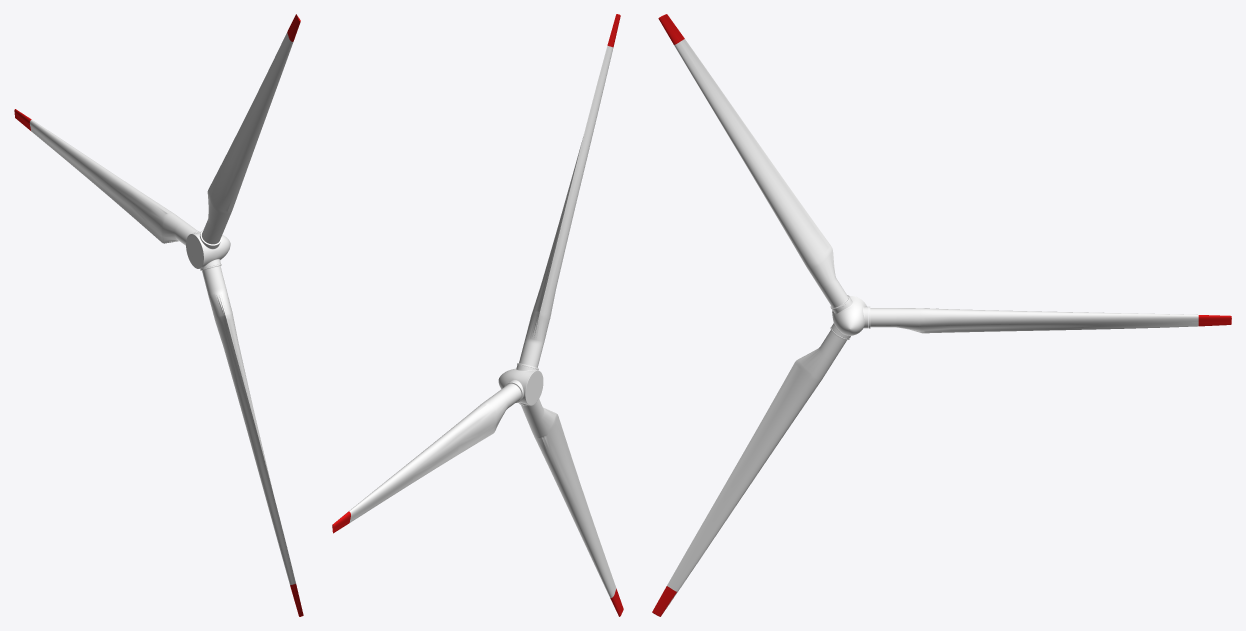
The model's file is FengLun.glb.
3 views of the same model, side by side, from view 1: azimuth 30°, elevation 25°; view 2: azimuth 150°, elevation 25°; view 3: azimuth 270°, elevation 25° (orthographic).
Parts seen in each view (by area): view 1: 叶片.1, cgaxis_models_119_11_02_03.4, cgaxis_models_119_11_02_01.3, cgaxis_models_119_11_03_01.2; view 2: cgaxis_models_119_11_02_01.3, 叶片.1, cgaxis_models_119_11_02_03.4, cgaxis_models_119_11_03_01.2; view 3: 叶片.1, cgaxis_models_119_11_02_03.4, cgaxis_models_119_11_02_01.3, cgaxis_models_119_11_03_01.2.
Boxes of the visible parts, bbox=[...] form: 叶片.1: bbox=[200, 14, 300, 246]; cgaxis_models_119_11_02_03.4: bbox=[200, 264, 303, 616]; cgaxis_models_119_11_02_01.3: bbox=[14, 109, 200, 245]; cgaxis_models_119_11_03_01.2: bbox=[186, 232, 230, 269]; cgaxis_models_119_11_02_01.3: bbox=[332, 382, 523, 533]; 叶片.1: bbox=[517, 14, 620, 369]; cgaxis_models_119_11_02_03.4: bbox=[518, 399, 623, 616]; cgaxis_models_119_11_03_01.2: bbox=[498, 364, 543, 405]; 叶片.1: bbox=[658, 14, 850, 309]; cgaxis_models_119_11_02_03.4: bbox=[652, 326, 849, 616]; cgaxis_models_119_11_02_01.3: bbox=[869, 306, 1231, 333]; cgaxis_models_119_11_03_01.2: bbox=[831, 296, 868, 338].
Bounding box in the file's own units: 204 × 3327 × 2899.
